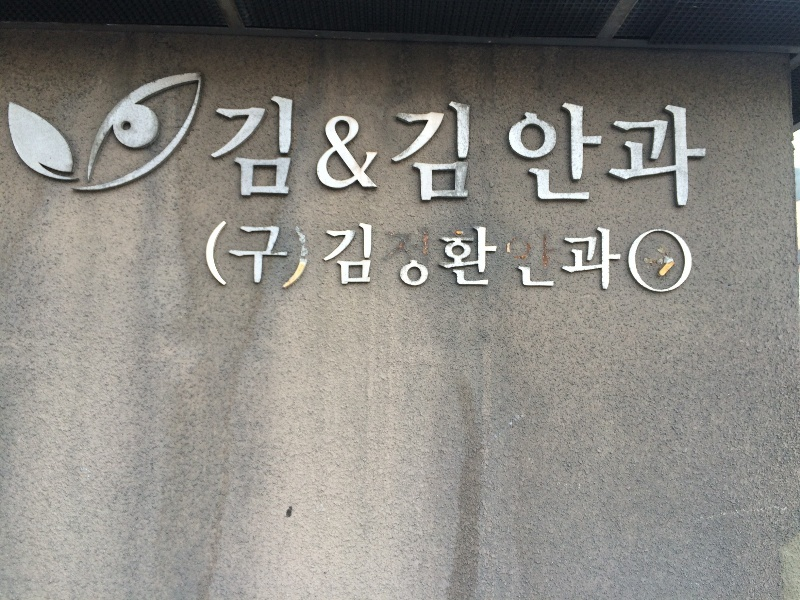text: (513, 93, 528, 212), (529, 93, 544, 212), (545, 93, 560, 212), (561, 93, 576, 212), (577, 93, 592, 212), (593, 93, 608, 212), (609, 93, 624, 212), (625, 93, 640, 212), (641, 93, 656, 212), (657, 93, 672, 212), (673, 93, 688, 212), (689, 93, 704, 212), (225, 94, 240, 205), (241, 94, 256, 205), (257, 94, 272, 205), (273, 94, 288, 205), (289, 94, 304, 205), (305, 94, 320, 205), (321, 94, 336, 205), (337, 94, 352, 205), (353, 94, 368, 205), (369, 94, 384, 205), (385, 94, 400, 205), (401, 94, 416, 205), (417, 94, 432, 205), (433, 94, 448, 205), (449, 94, 464, 205), (213, 94, 224, 205), (502, 93, 512, 212), (209, 217, 224, 293), (225, 217, 240, 293), (241, 217, 256, 293), (257, 217, 272, 293), (273, 217, 288, 293), (289, 217, 304, 293), (321, 221, 336, 294), (337, 221, 352, 294), (353, 221, 368, 294), (369, 221, 384, 294), (385, 221, 400, 294), (401, 221, 416, 294), (417, 221, 432, 294), (433, 221, 448, 294), (449, 221, 464, 294), (465, 221, 480, 294), (481, 221, 496, 294), (497, 221, 512, 294), (513, 221, 528, 294), (529, 221, 544, 294), (545, 221, 560, 294), (561, 221, 576, 294), (577, 221, 592, 294), (593, 221, 608, 294), (625, 226, 640, 298), (641, 226, 656, 298), (657, 226, 672, 298), (673, 226, 688, 298), (609, 221, 622, 294), (465, 94, 472, 205), (705, 93, 709, 212), (202, 217, 208, 293), (305, 217, 310, 293), (689, 226, 694, 298)
